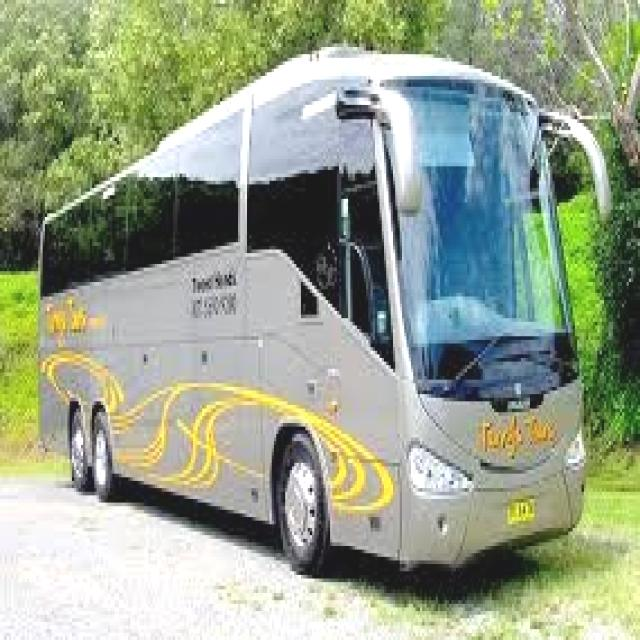bus: (31, 44, 619, 609)
